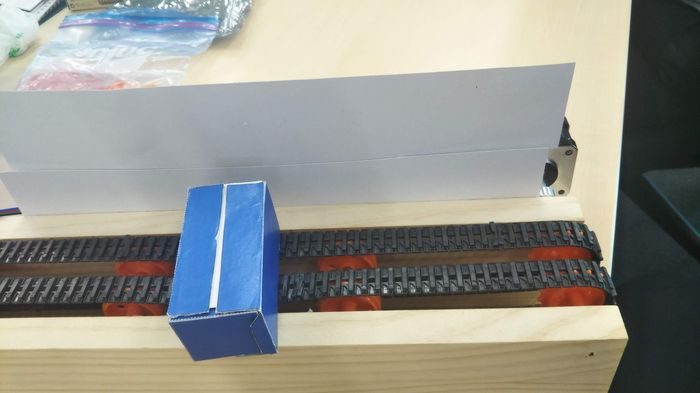box3: (161, 178, 283, 366)
